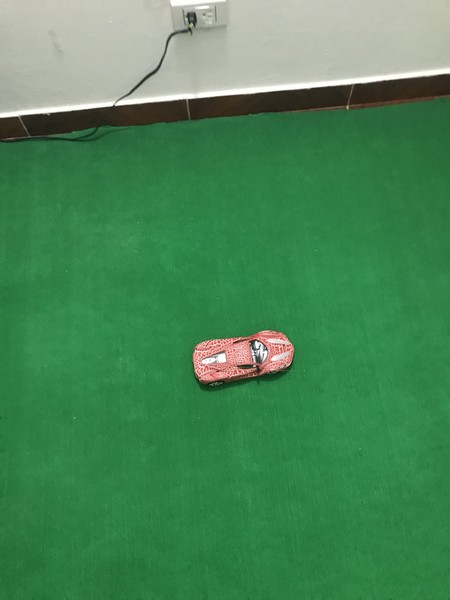RC: (190, 328, 297, 390)
